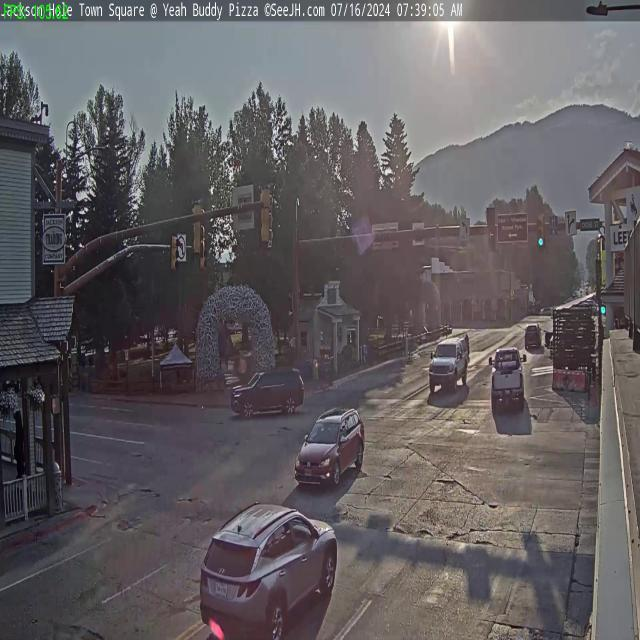pickup: (490, 347, 524, 409)
suv: (198, 496, 338, 639), (295, 406, 367, 488), (230, 364, 307, 418), (524, 322, 544, 349)
traffic light: (190, 199, 204, 256), (260, 184, 272, 246), (486, 207, 496, 252), (170, 233, 179, 272), (536, 215, 546, 248)
truck: (429, 332, 469, 393)
